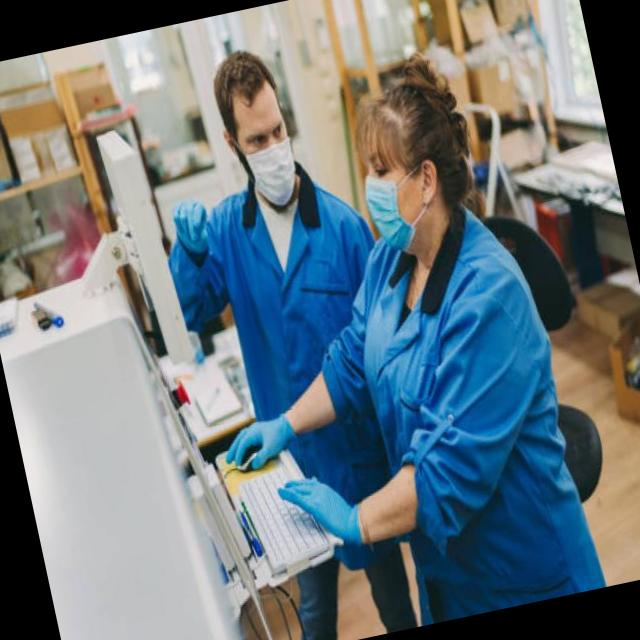Gloves: (270, 461, 368, 566), (213, 406, 301, 478), (164, 191, 217, 267)
